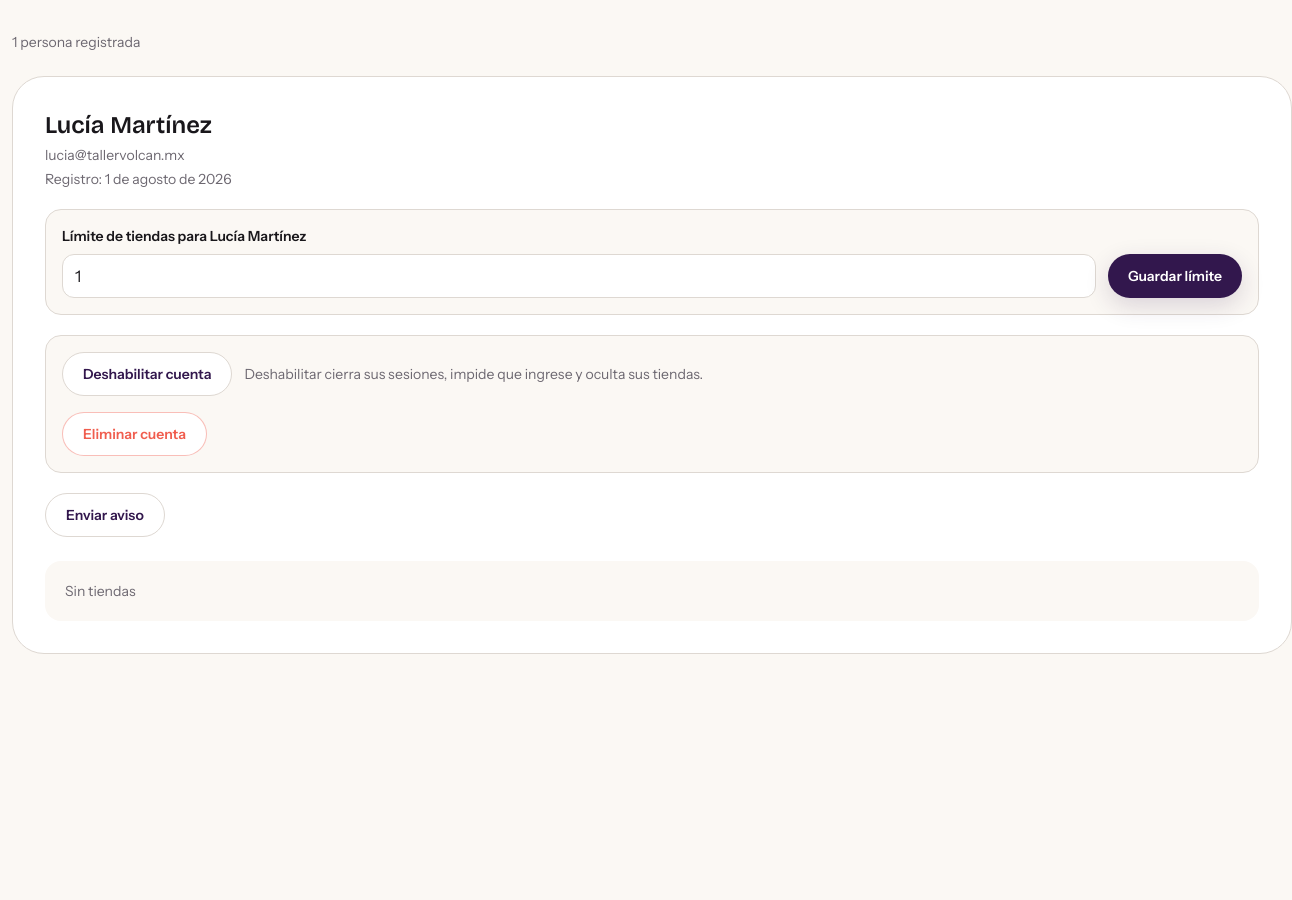
Scenario: MarketplaceUsers › lets administration change a user's shop limit
This screenshot has width=1292, height=900.
Replace the text in the number field labelled "Límite de tiendas para Lucía Martínez" with "4": [579, 276] box top-left (62, 254), bottom-right (1096, 298)
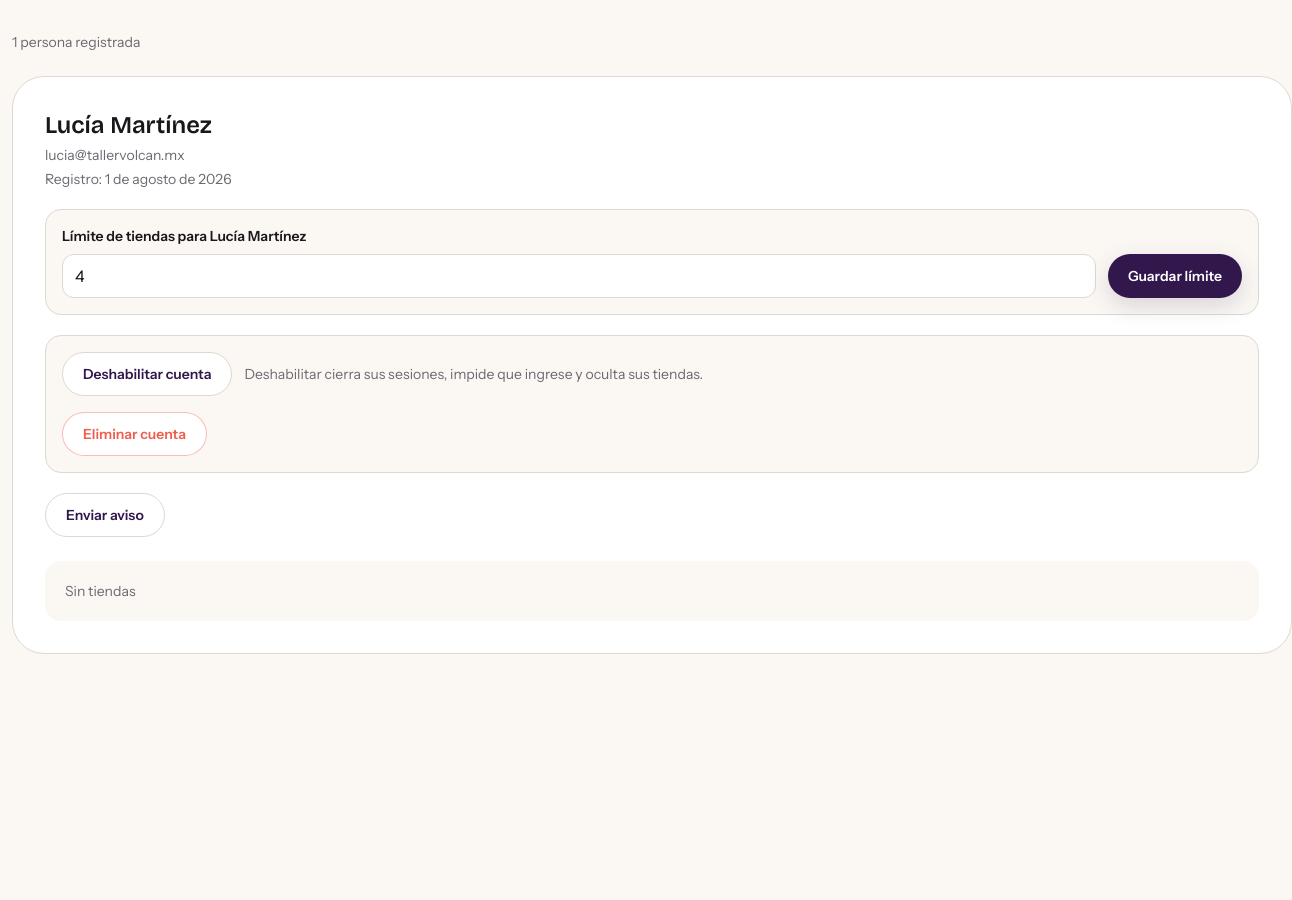
Click the button "Guardar límite": [1175, 276] box top-left (1108, 254), bottom-right (1242, 298)
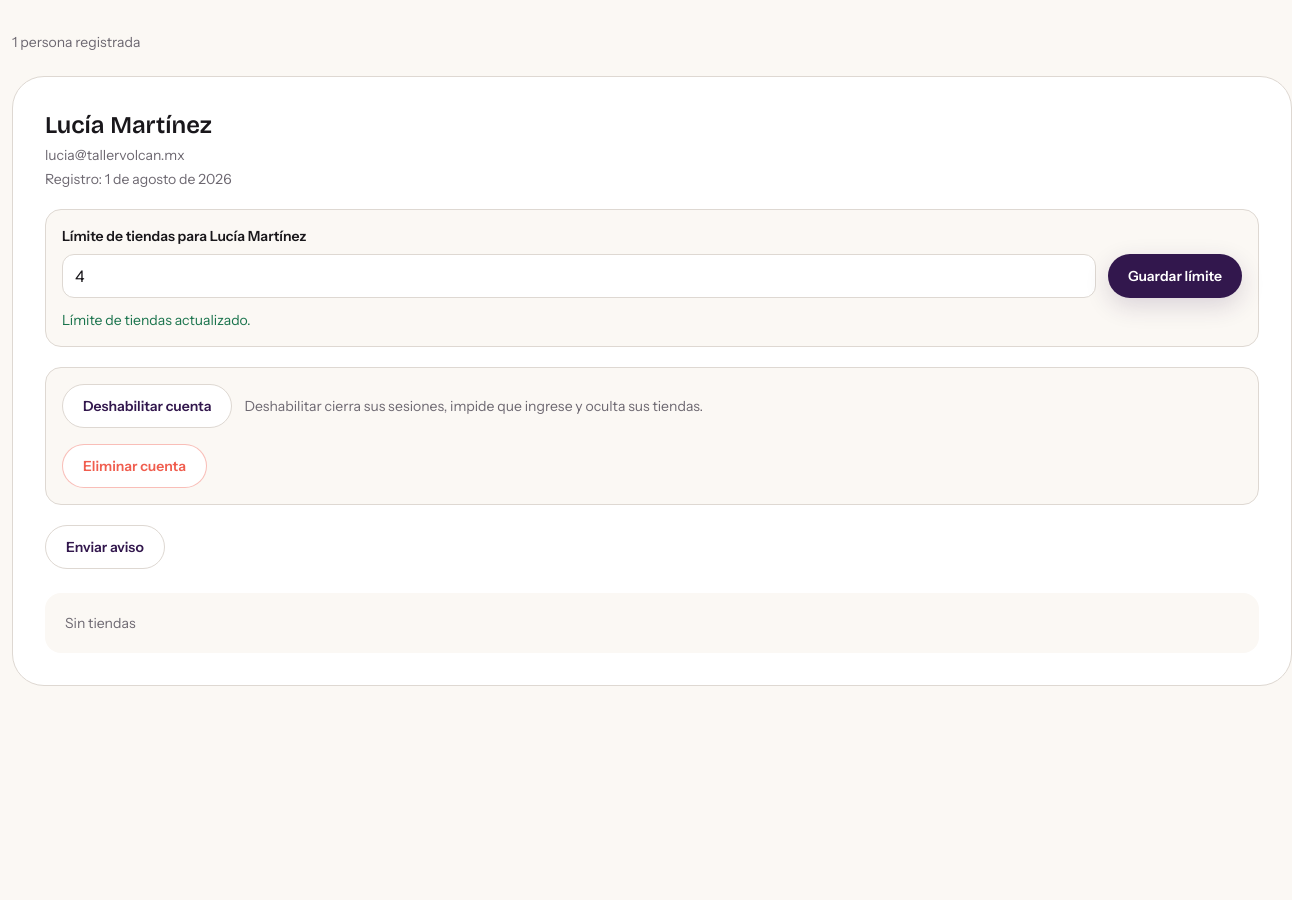
Check: the message reads "Límite de tiendas actualizado.", box top-left (62, 311), bottom-right (251, 329)
